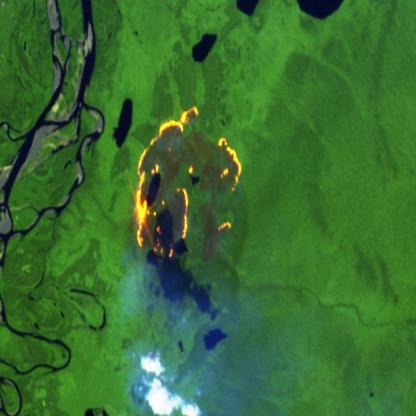fire: (132, 100, 244, 256)
